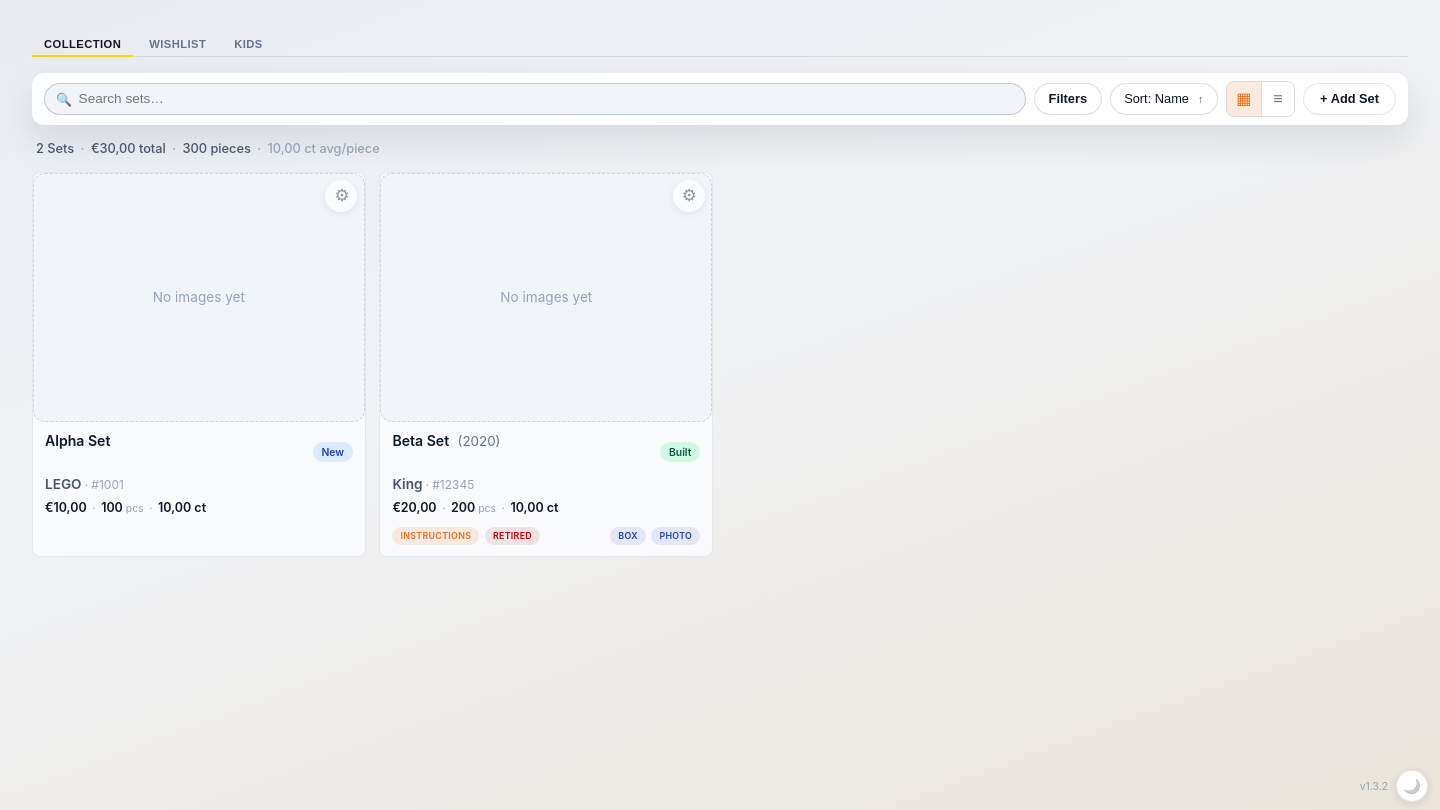
Test: App.vue › shows collection sets by default and switches to wishlist tab
Expected: the text "Wishlist Item" is not shown
Click the button "Wishlist" at (178, 45), box [137,32,218,57]
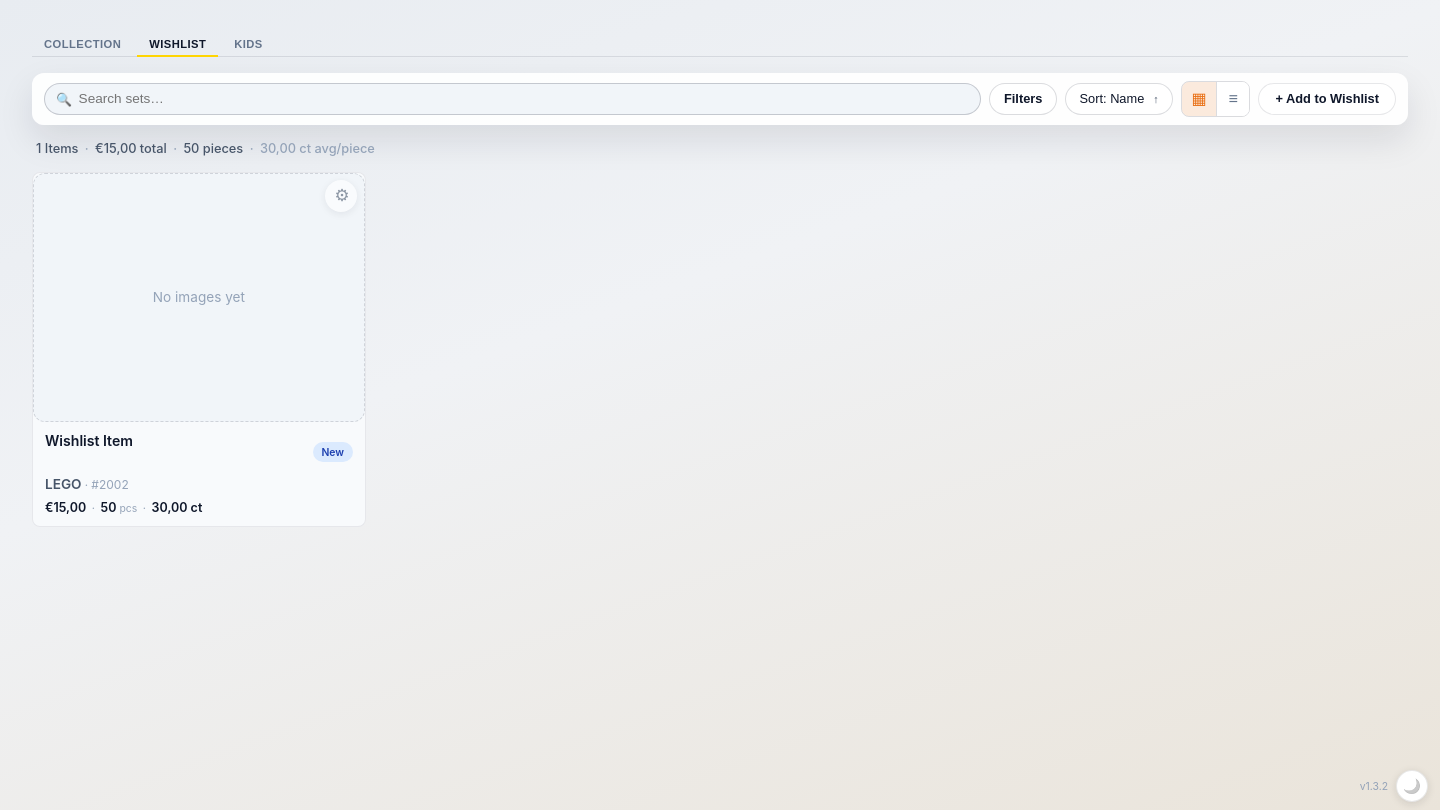
Now the text "Wishlist Item" is shown, box [45,432,133,449]
Now the text "Alpha Set" is gone
